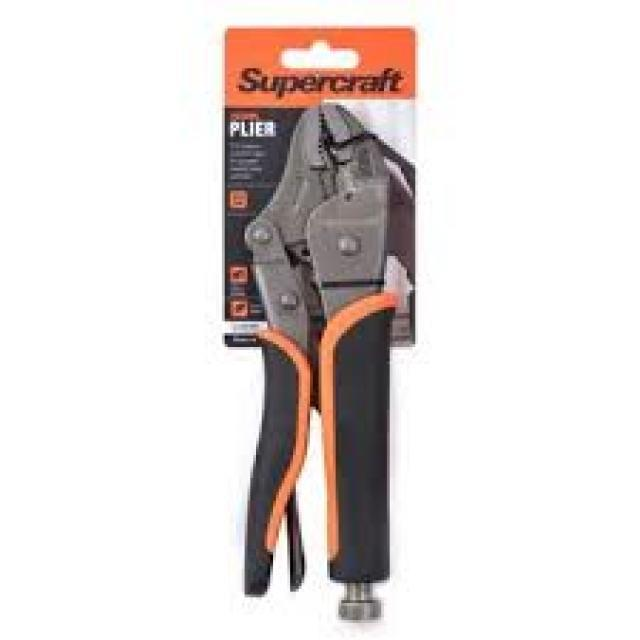pliers: (238, 95, 394, 609)
